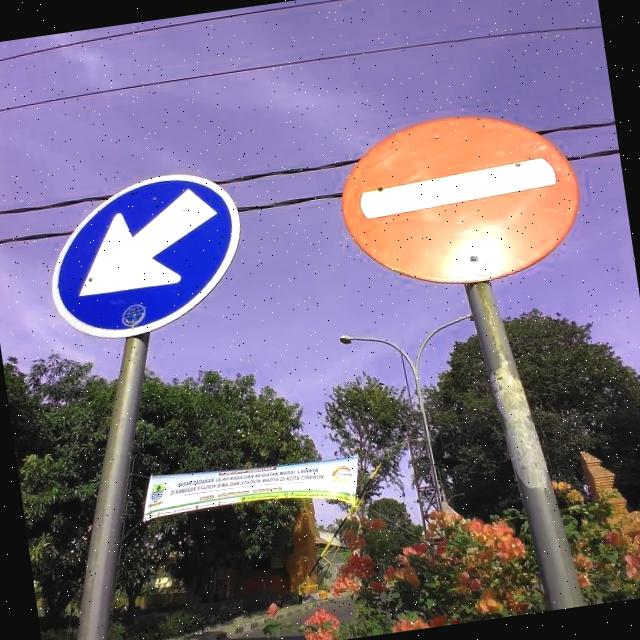Zakaz wjazdu: (333, 100, 589, 296)
